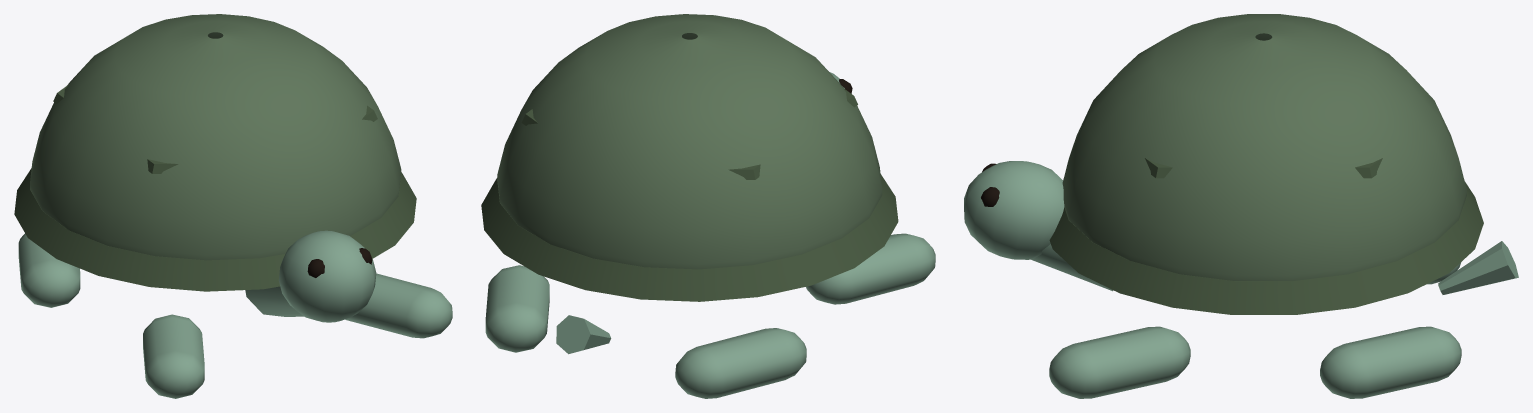
The model's file is h27-kurakura.glb.
3 renders of one model, left to right at view 1: azimuth 30°, elevation 25°; view 2: azimuth 150°, elevation 25°; view 3: azimuth 270°, elevation 25°, orthographic. The views are drawn at different scales.
Visible parts, largest first — view 1: Kura-kura, head; view 2: Kura-kura; view 3: Kura-kura, head.
Part boxes in pixels (x1,y1,x2,y2): Kura-kura: (14,14,452,398); head: (245,230,376,322); Kura-kura: (481,14,935,398); Kura-kura: (1049,14,1518,398); head: (964,161,1112,291).
Bounding box in the file's own units: 0.5147 × 0.382 × 0.6556.
